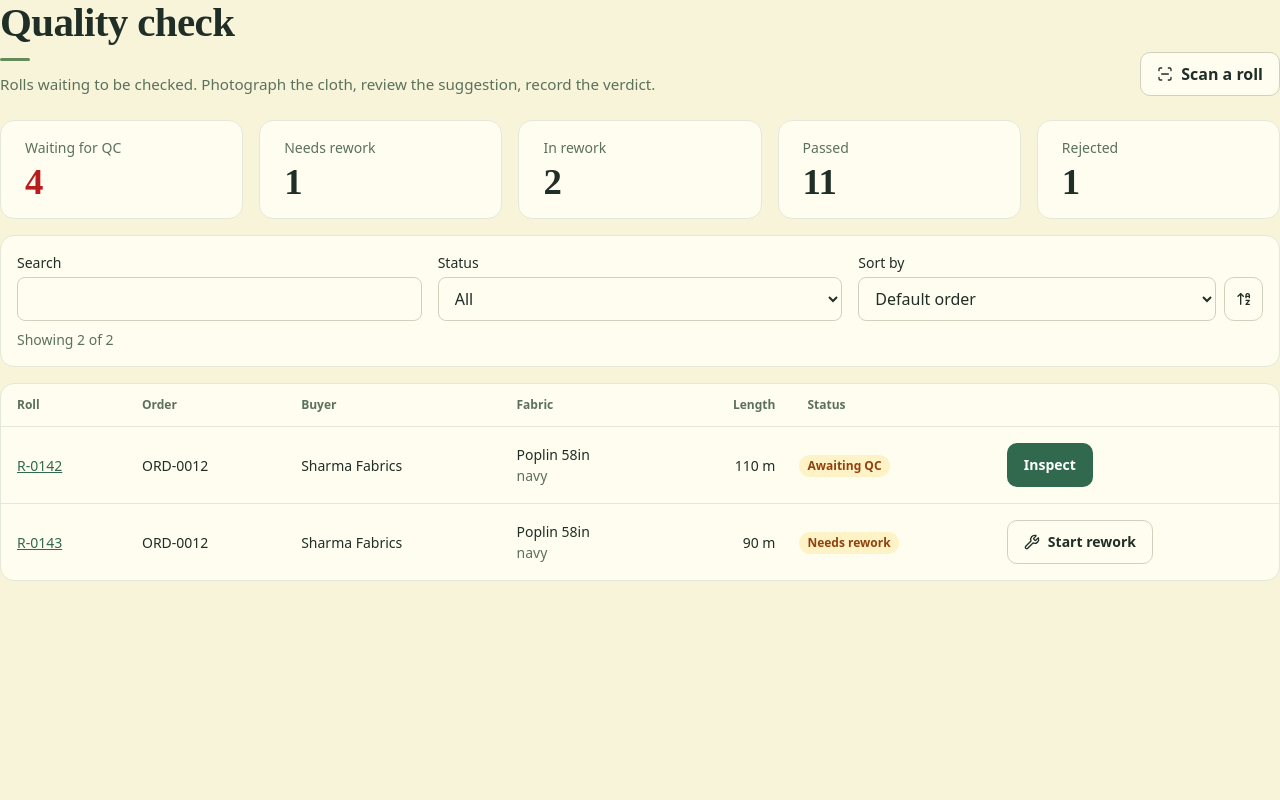
QcQueue › needs an operator for the rework
Click the button "Start rework". click: (1080, 542)
box: x1=1007 y1=520 x2=1153 y2=564
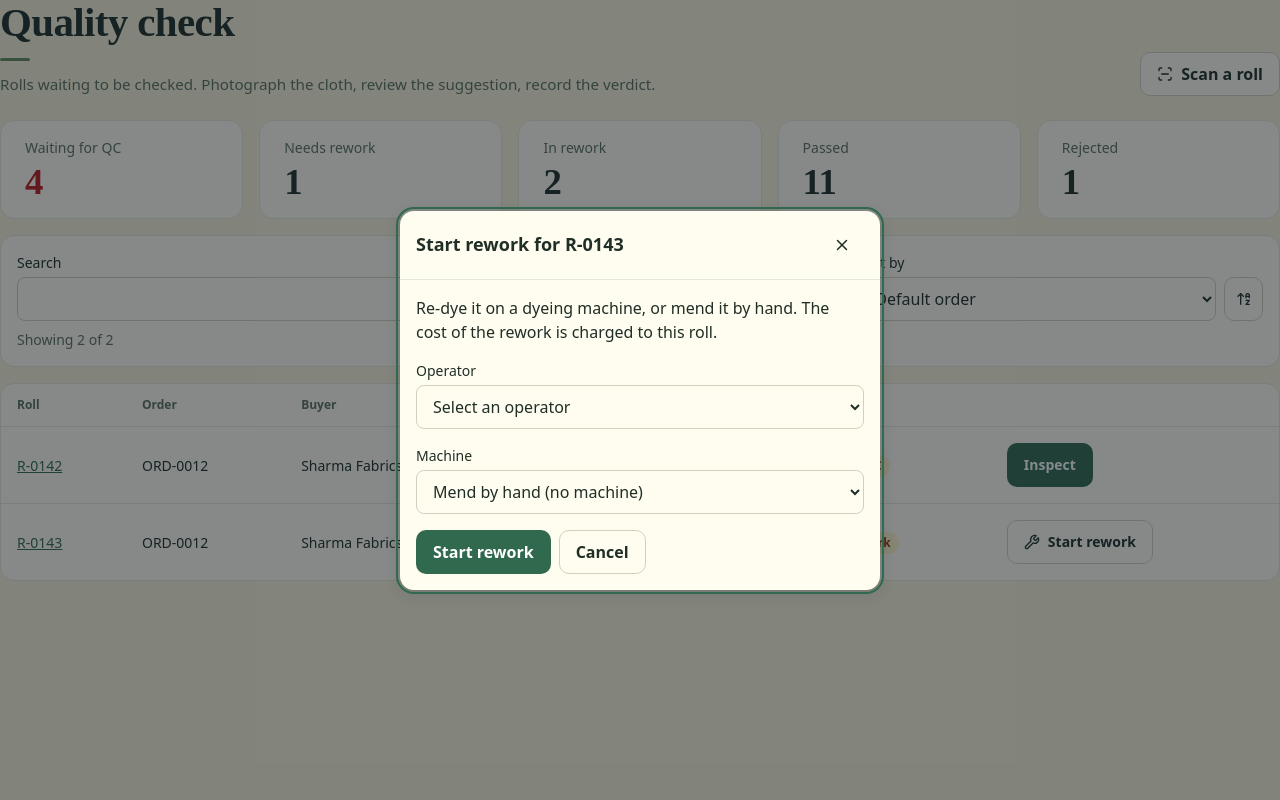
Click the button "Start rework". click: (483, 552)
box: x1=416 y1=530 x2=551 y2=574
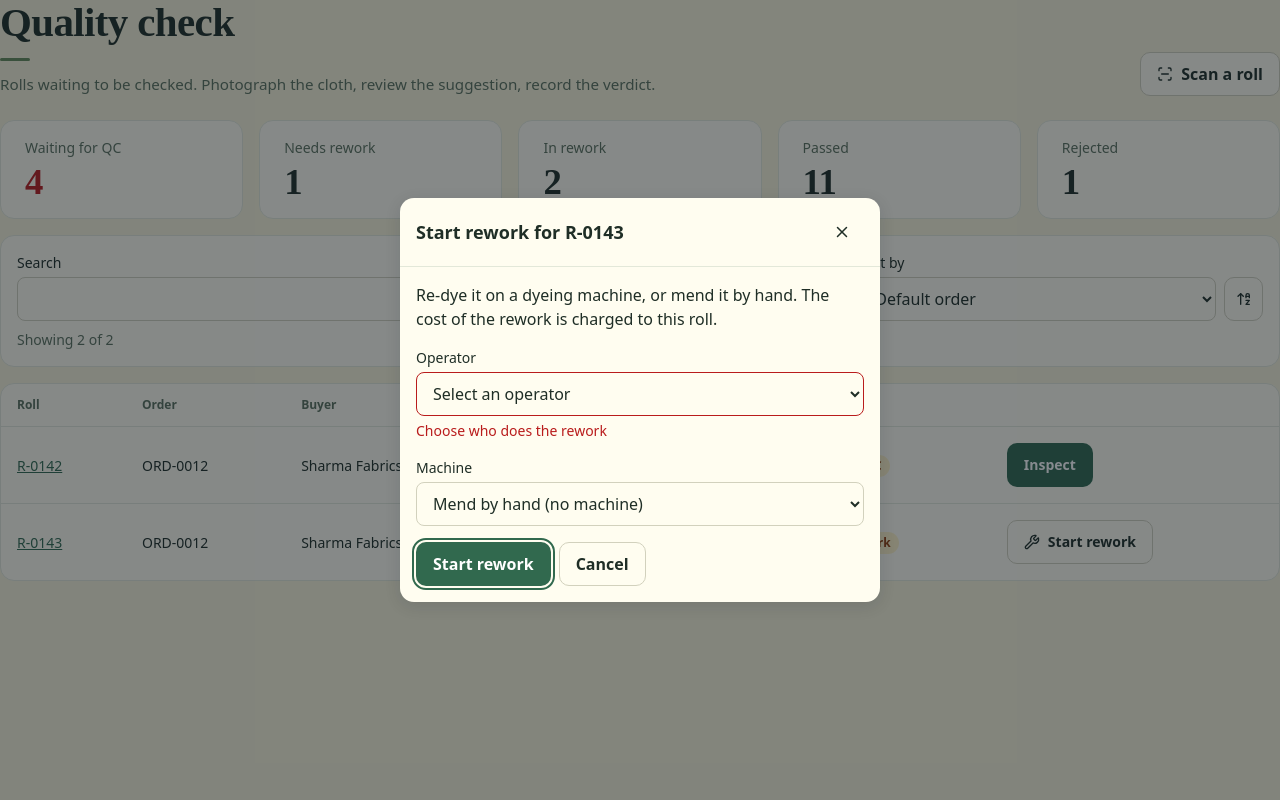
Check: the text "Choose who does the rework" is shown, box x1=416 y1=421 x2=607 y2=440
